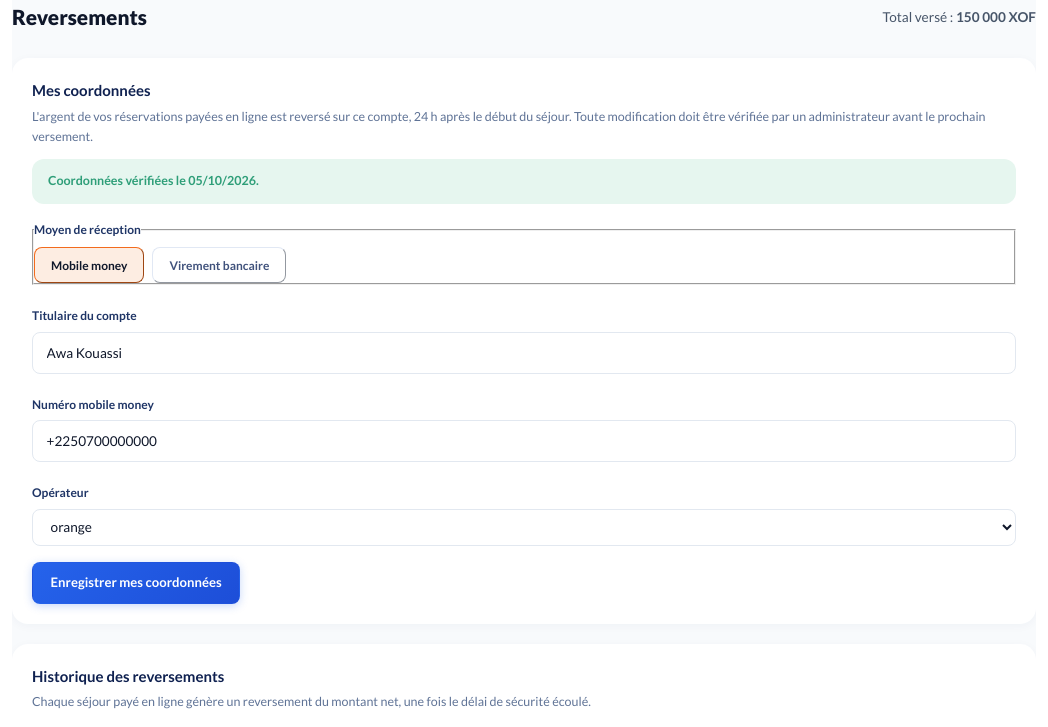
Test: ReversementsPage › enregistre les coordonnées mobile money et demande une nouvelle vérification
Step 1. Replace the text in the field labelled "Titulaire du compte" with "Awa Koné" → (524, 353), box [32,332,1016,374]
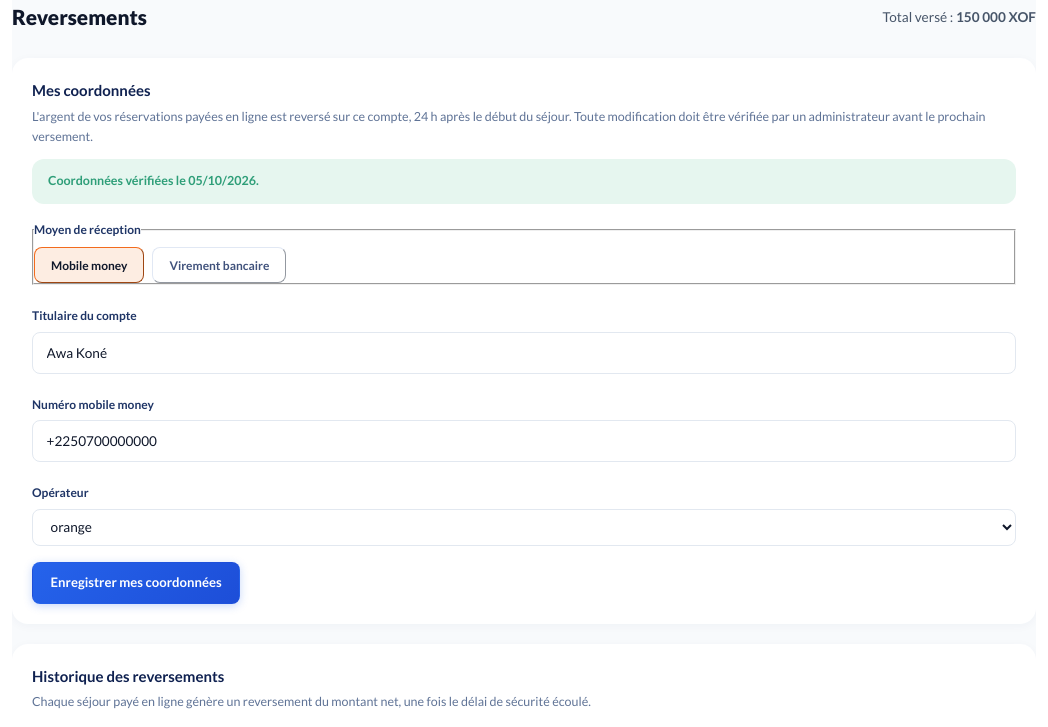
Step 2. Click the button "Enregistrer mes coordonnées" → (136, 583), box [32,562,240,604]
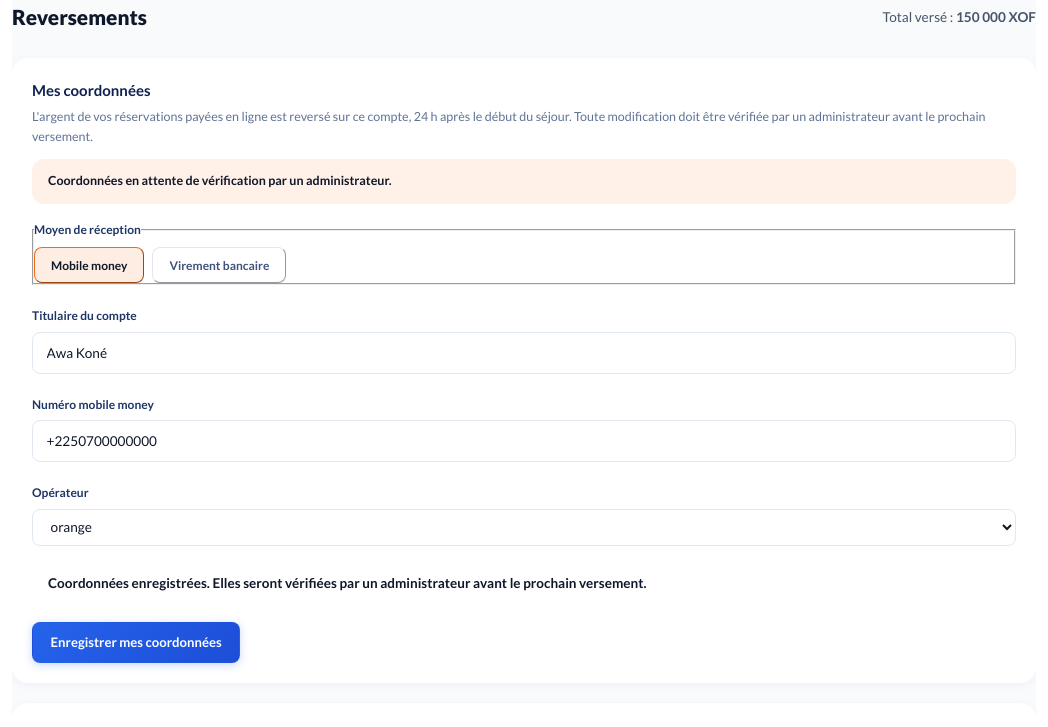
Expected: the text "Coordonnées enregistrées" is shown, [48,575,646,591]
